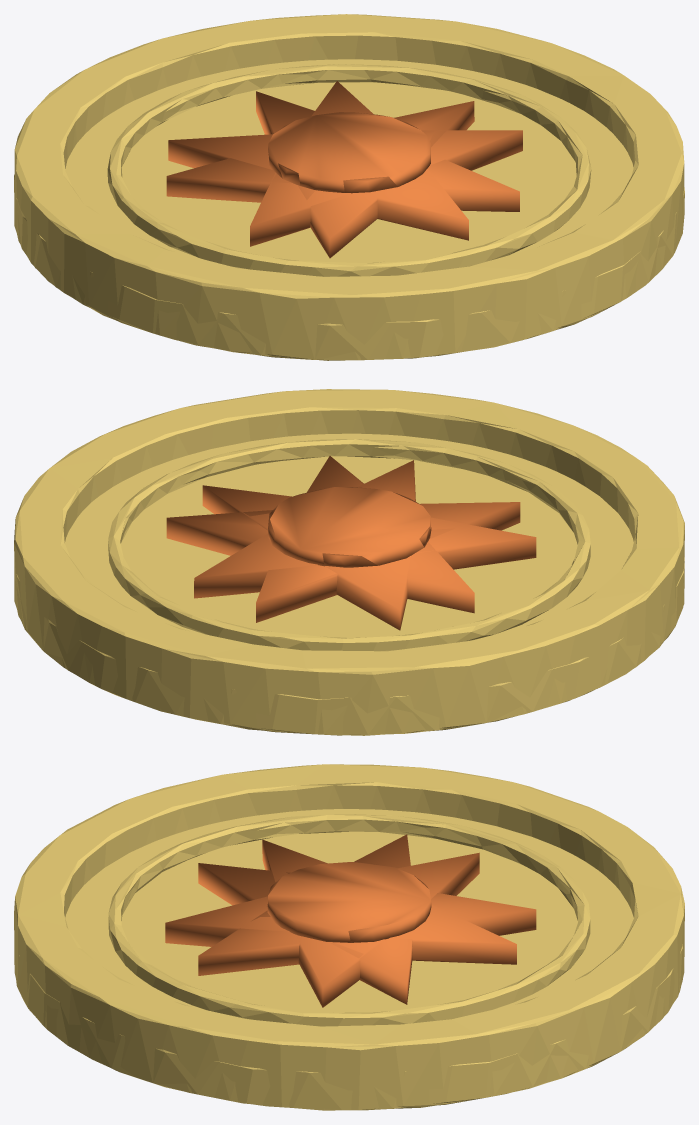
File: medalhao.fbx
3 renders of one model, top to bottom at view 1: azimuth 30°, elevation 25°; view 2: azimuth 150°, elevation 25°; view 3: azimuth 270°, elevation 25°, orthographic.
Parts seen in each view (by area): view 1: Medalhao_Base.001, Desenho.001; view 2: Medalhao_Base.001, Desenho.001; view 3: Medalhao_Base.001, Desenho.001.
Boxes of the visible parts, x1=… form: Medalhao_Base.001: x1=14, y1=14, x2=684, y2=360; Desenho.001: x1=166, y1=81, x2=522, y2=258; Medalhao_Base.001: x1=14, y1=389, x2=684, y2=735; Desenho.001: x1=166, y1=456, x2=536, y2=630; Medalhao_Base.001: x1=14, y1=764, x2=684, y2=1110; Desenho.001: x1=165, y1=834, x2=536, y2=1007.
Bounding box in the file's own units: 0.06 × 0.00739 × 0.06.
